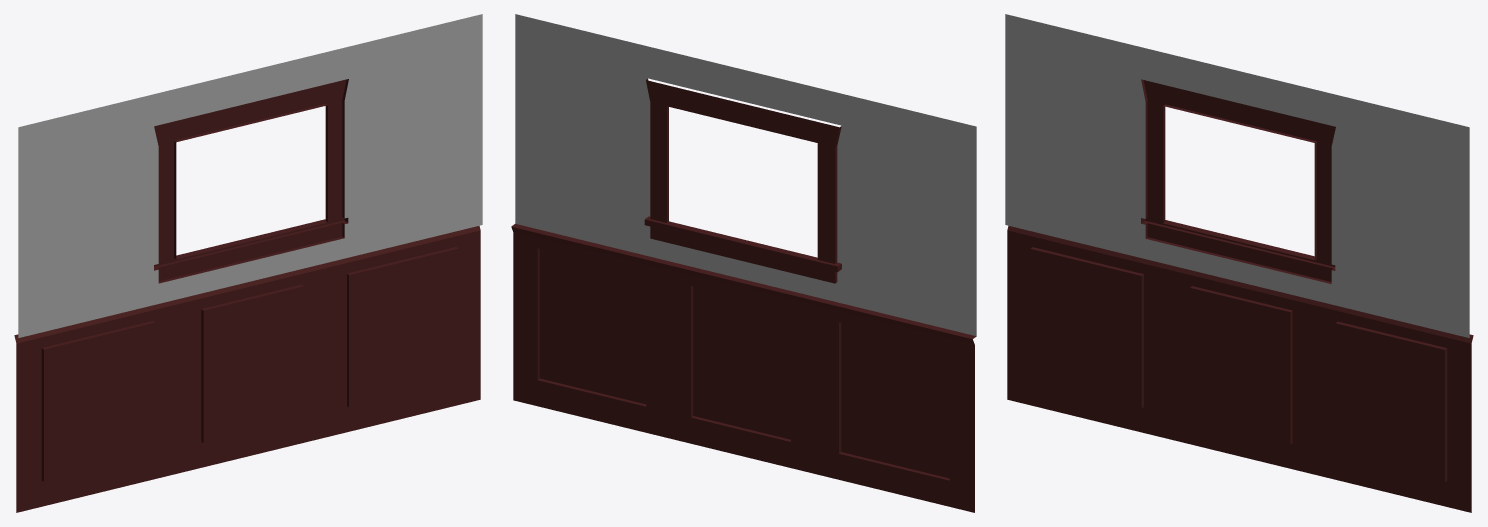
Rendered from 1Window.fbx.
3 views of the same model, side by side, from view 1: azimuth 30°, elevation 25°; view 2: azimuth 150°, elevation 25°; view 3: azimuth 330°, elevation 25° (orthographic).
Parts seen in each view (by area): view 1: polySurface23; view 2: polySurface23; view 3: polySurface23.
Part boxes in pixels (left/top/right/bottom): polySurface23: left=14, top=14, right=482, bottom=512; polySurface23: left=511, top=14, right=976, bottom=512; polySurface23: left=1005, top=14, right=1473, bottom=512.
Bounding box in the file's own units: 4 × 3.19 × 0.0664.
